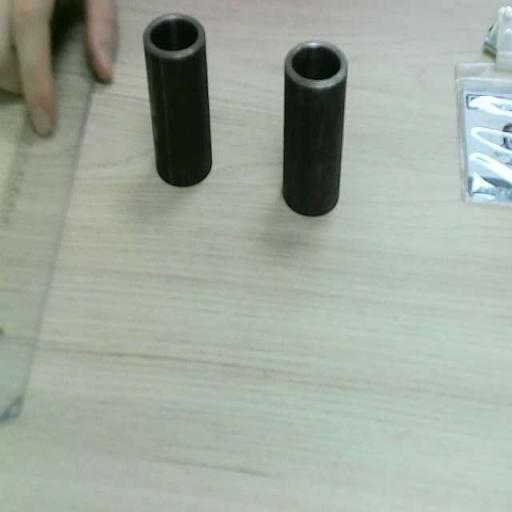peca: (143, 13, 211, 186), (282, 39, 346, 215)
